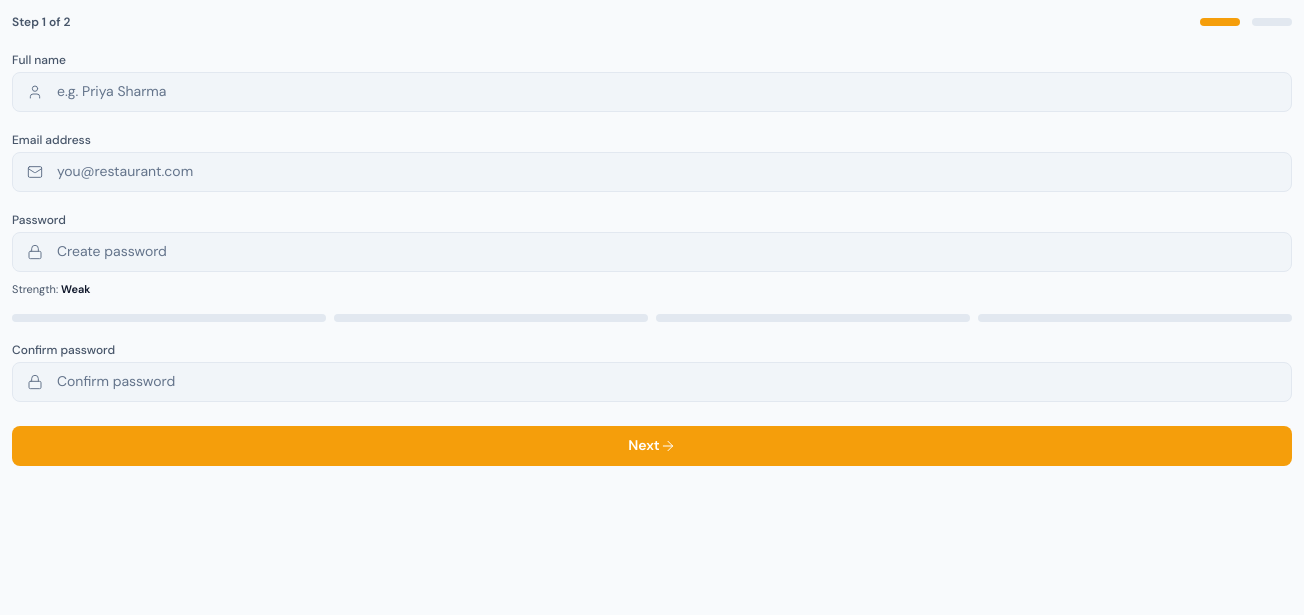
Test: RestaurantSignupForm › blocks Step 2 transition when Step 1 is invalid and focuses first error
What coordinates should you click on to do the following:
click the button "Next"
I would click on:
 (652, 446)
Its box is [12,426,1292,466].
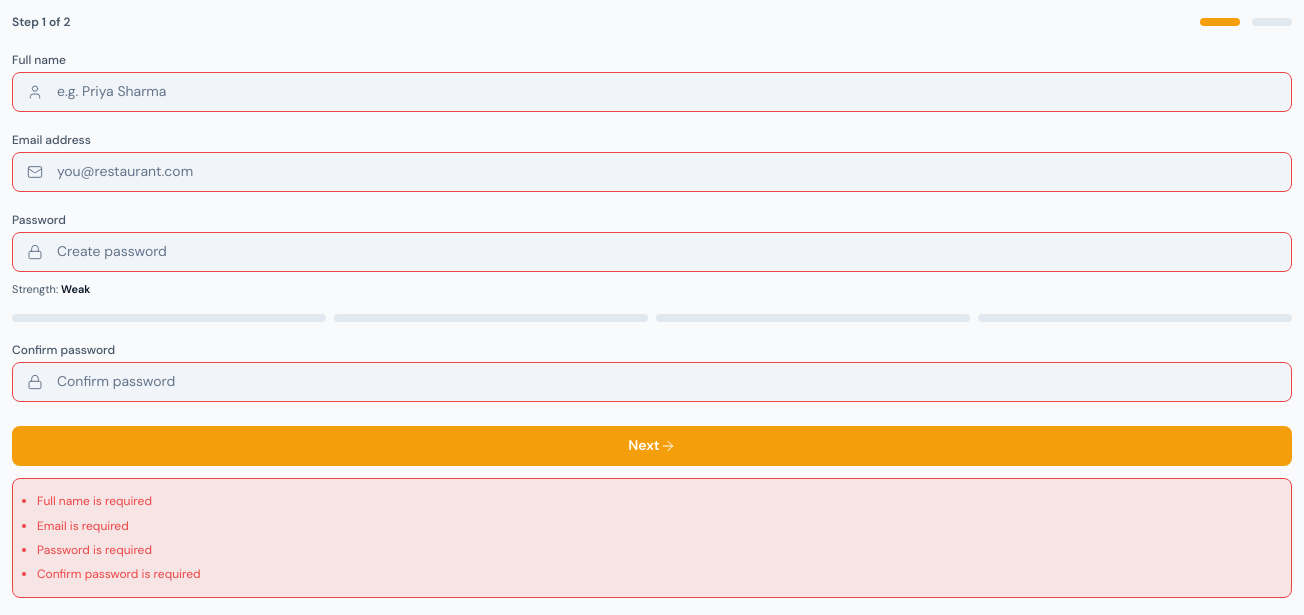
expect the list item "Full name is required" is shown: met, box [37,493,152,509]
expect the list item "Email is required" is shown: met, box [37,518,129,534]
